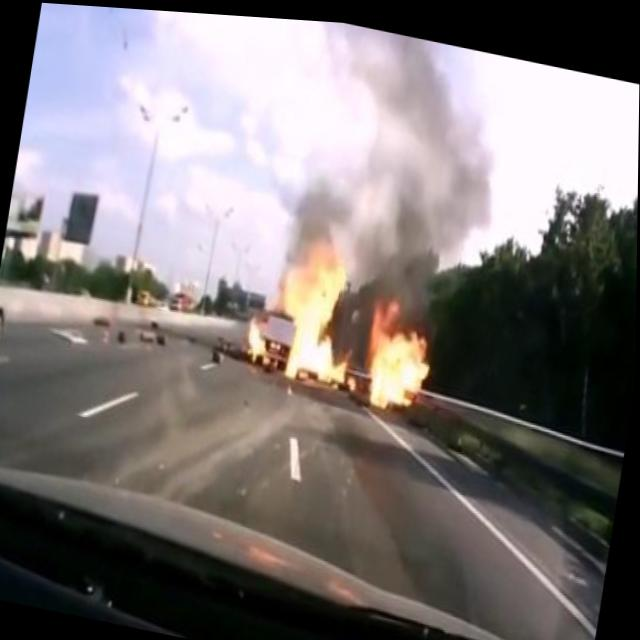fire: (234, 225, 449, 425)
